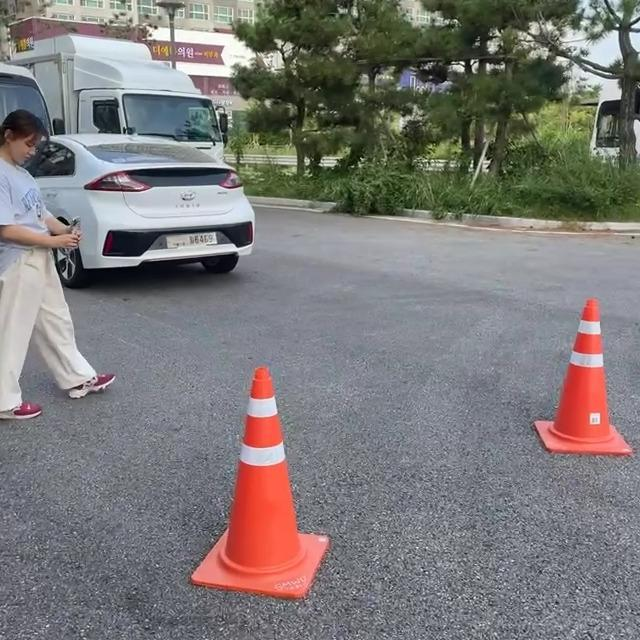fallen_object: (192, 358, 342, 638), (521, 297, 640, 528)
